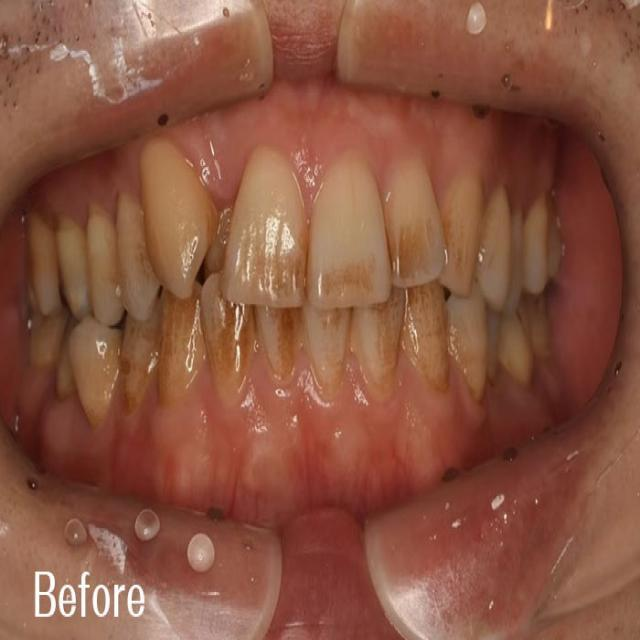LL1BC_mdecay: (451, 297, 490, 401)
LLCI_mdecay: (308, 309, 346, 391)
LLC_mdecay: (403, 288, 453, 391)
LLLI_mdecay: (355, 306, 402, 390)
LR1BC_mdecay: (125, 314, 159, 416)
LRCI_mdecay: (257, 303, 300, 384)
LRC_mdecay: (157, 293, 199, 410)
LRLI_mdecay: (203, 301, 255, 410)
ULCI_mdecay: (307, 157, 392, 304)
ULC_mdecay: (440, 178, 481, 295)
ULLI_mdecay: (393, 155, 449, 290)
UR1BC_mdecay: (115, 197, 161, 319)
URCI_mdecay: (224, 145, 308, 303)
URC_mdecay: (138, 146, 209, 299)
